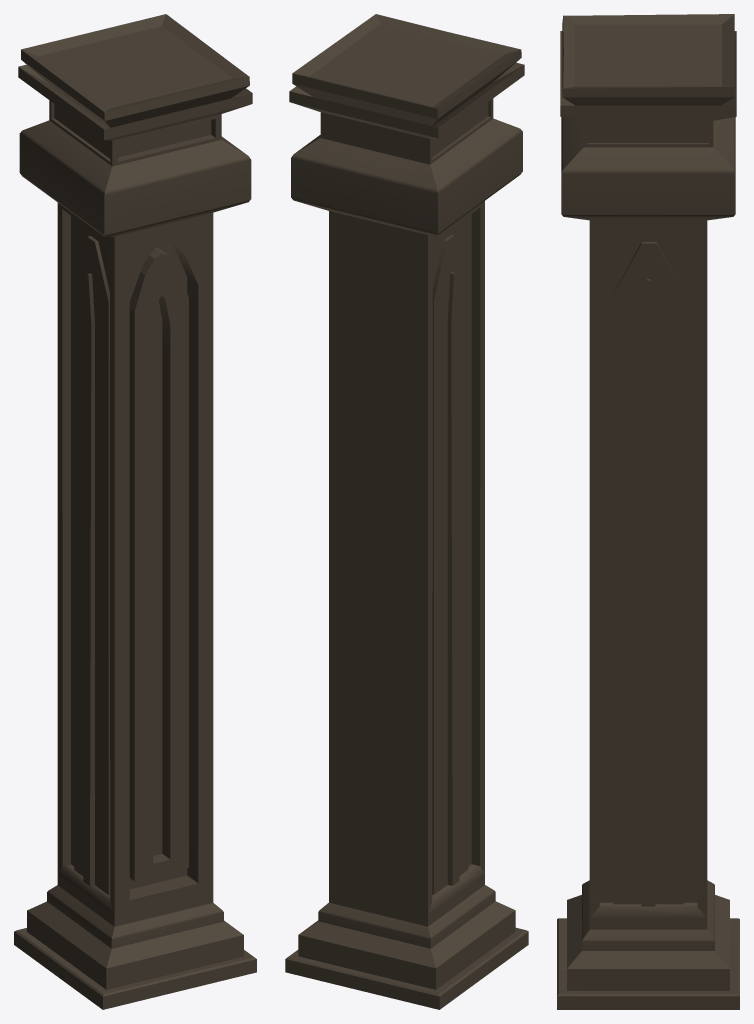
File: PILLAR.fbx
The picture shows the model from 3 angles, left to right: view 1: azimuth 30°, elevation 25°; view 2: azimuth 150°, elevation 25°; view 3: azimuth 270°, elevation 25°; orthographic projection. The views are drawn at different scales.
Visible parts, largest first — view 1: pCube58; view 2: pCube58; view 3: pCube58.
Boxes of the visible parts, x1,y1,x2,y2 form: pCube58: (14,14,256,1009); pCube58: (285,14,528,1009); pCube58: (557,14,739,1009).
Bounding box in the file's own units: 1.7 × 9.48 × 1.7.
